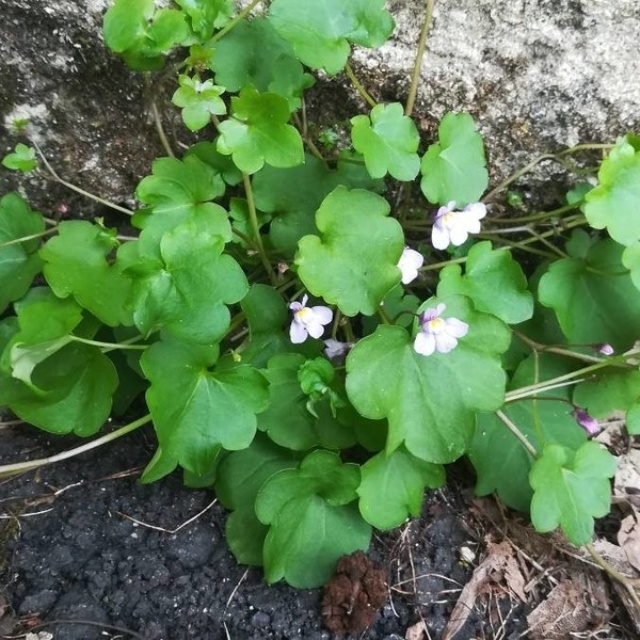obstacle: (69, 92, 599, 519)
